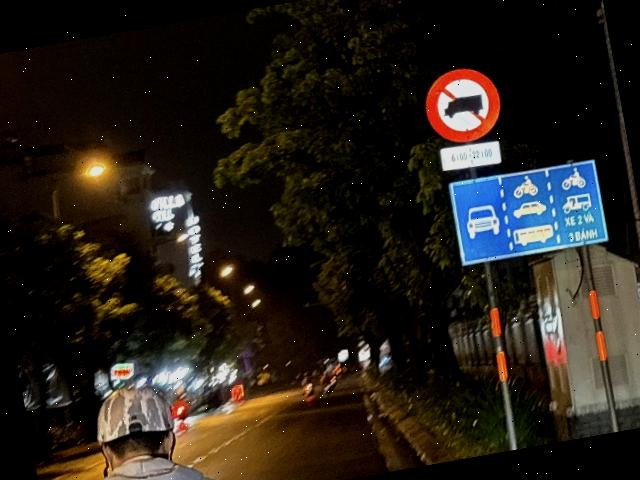cam-xe-tai: (419, 62, 506, 148)
